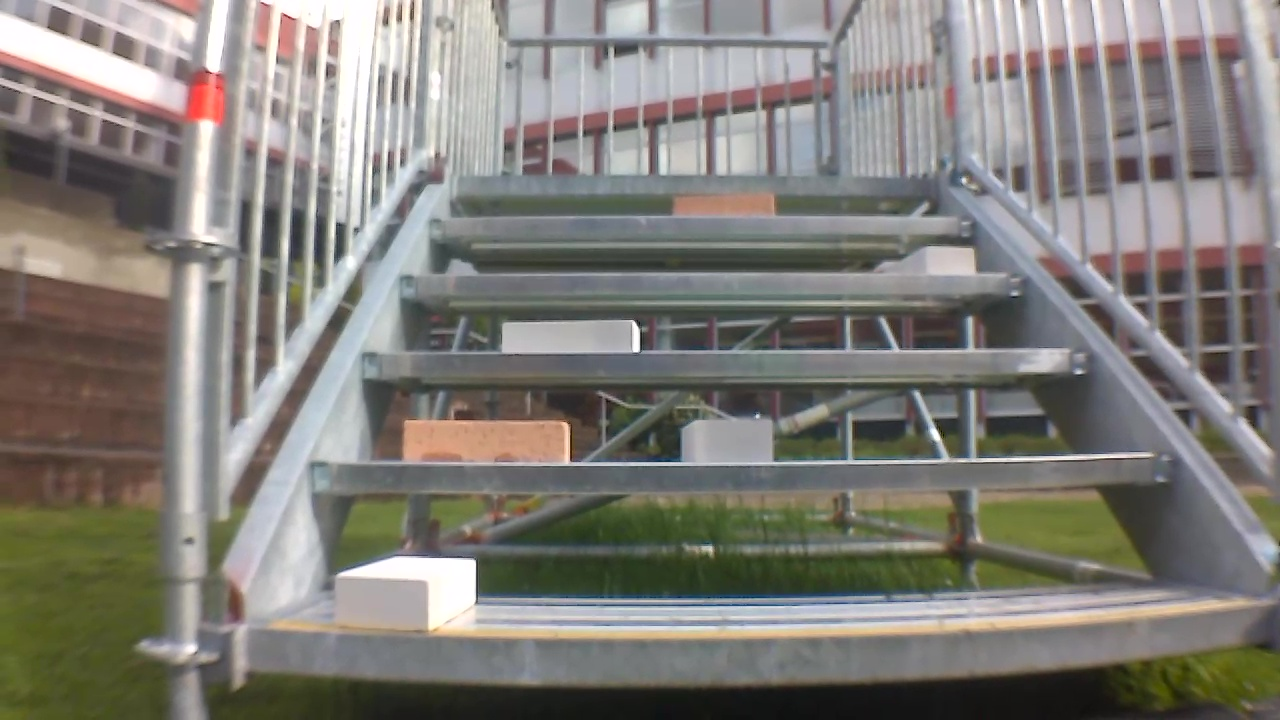brick: (331, 556, 479, 632), (401, 421, 571, 464), (501, 317, 644, 356), (680, 418, 779, 462), (672, 189, 780, 220), (880, 249, 977, 276)
edge: (246, 604, 1275, 674), (309, 452, 1182, 493), (360, 350, 1091, 377), (398, 277, 1028, 302), (425, 218, 977, 236), (453, 176, 938, 195)
stairs: (168, 0, 1280, 713)
steps: (235, 171, 1276, 686)
